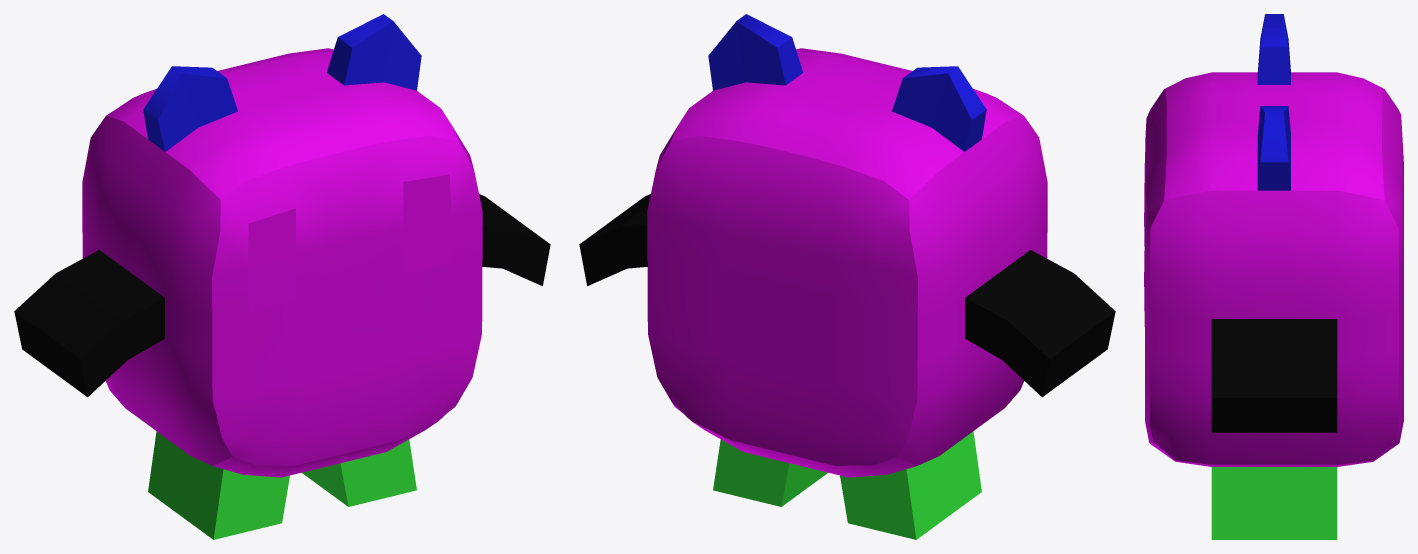
The model's file is CuteEnemy.FBX.
3 renders of one model, left to right at view 1: azimuth 30°, elevation 25°; view 2: azimuth 150°, elevation 25°; view 3: azimuth 270°, elevation 25°, orthographic. The views are drawn at different scales.
Parts seen in each view (by area): view 1: Piggy; view 2: Piggy; view 3: Piggy.
Part boxes in pixels (box(x1,y1,x2,y2)): Piggy: box(14, 14, 550, 539); Piggy: box(579, 14, 1115, 539); Piggy: box(1144, 14, 1403, 539).
Size of the model in its own units: 116 by 105 by 57.7.
